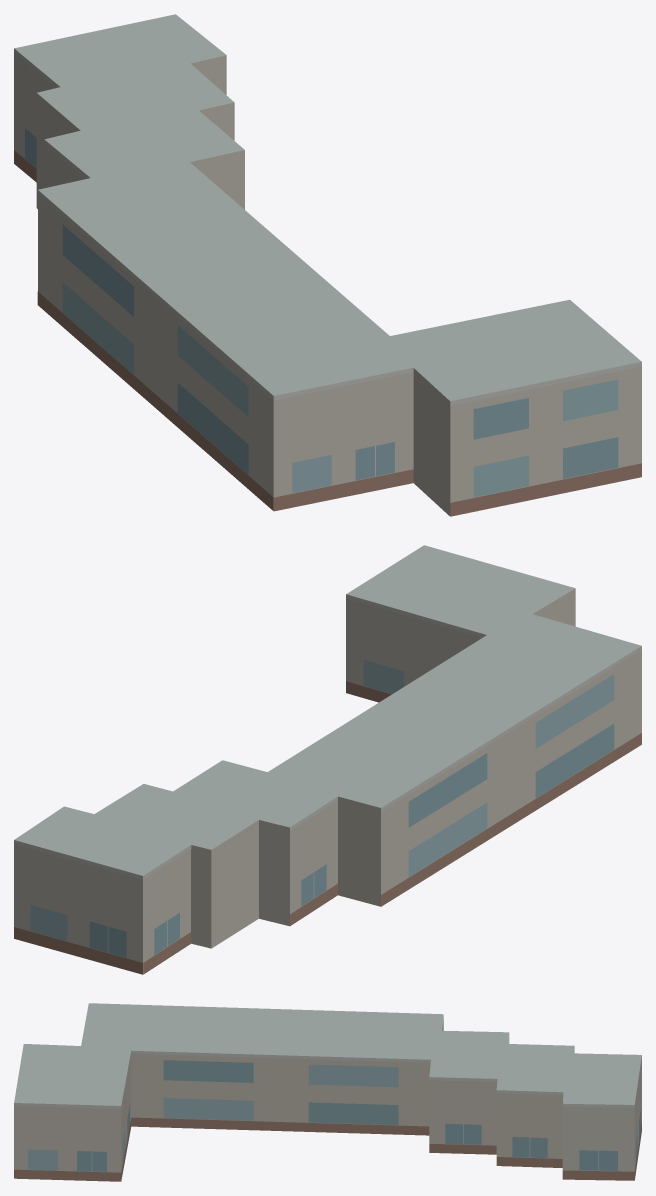
File: survey-upis-32671358.glb
The picture shows the model from 3 angles, top to bottom: view 1: azimuth 30°, elevation 25°; view 2: azimuth 150°, elevation 25°; view 3: azimuth 270°, elevation 25°; orthographic projection. The views are drawn at different scales.
Parts seen in each view (by area): view 1: survey-upis-32671358.tmp; view 2: survey-upis-32671358.tmp; view 3: survey-upis-32671358.tmp.
Part boxes in pixels (bbox=[...]): survey-upis-32671358.tmp: bbox=[14, 14, 641, 516]; survey-upis-32671358.tmp: bbox=[14, 545, 641, 974]; survey-upis-32671358.tmp: bbox=[14, 1003, 641, 1181].
Bounding box in the file's own units: 17.76 × 6.1 × 45.81.
